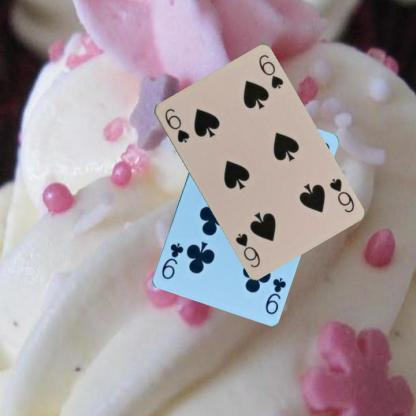6s: (326, 176, 355, 214), (162, 106, 190, 144)
9c: (262, 274, 287, 316)
